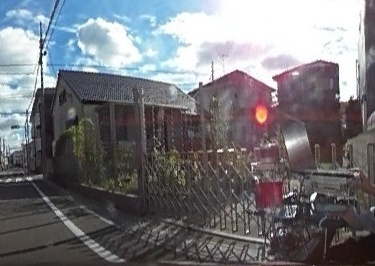person: (332, 55, 375, 266)
